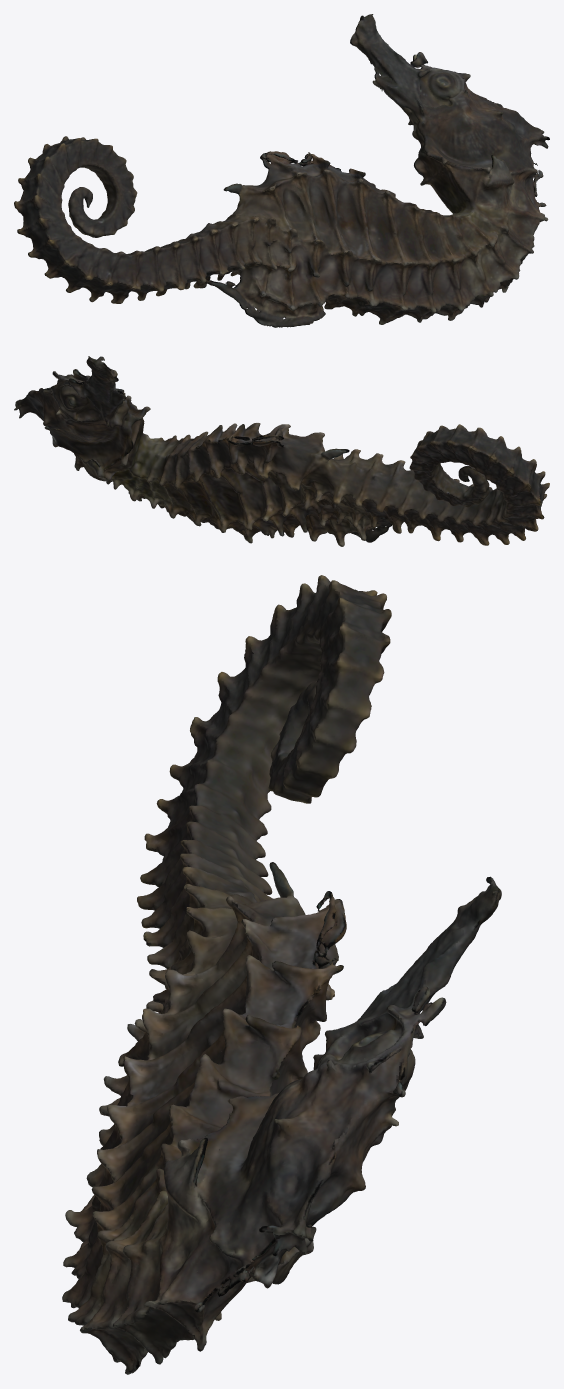
File: caballito.glb
3 views of the same model, one above another, from view 1: azimuth 30°, elevation 25°; view 2: azimuth 150°, elevation 25°; view 3: azimuth 270°, elevation 25° (orthographic). The views are drawn at different scales.
Visible parts, largest first — view 1: Object_4, Object_2, Object_3, Object_5; view 2: Object_3, Object_2, Object_4, Object_5; view 3: Object_2, Object_4, Object_3, Object_5.
Boxes of the visible parts, left/top/right/bottom form: Object_4: left=14, top=89, right=520, bottom=307; Object_2: left=17, top=14, right=549, bottom=327; Object_3: left=23, top=63, right=535, bottom=325; Object_5: left=49, top=157, right=548, bottom=304; Object_3: left=19, top=383, right=536, bottom=540; Object_2: left=14, top=356, right=549, bottom=544; Object_4: left=19, top=395, right=547, bottom=546; Object_5: left=133, top=404, right=546, bottom=545; Object_2: left=113, top=575, right=501, bottom=1370; Object_4: left=63, top=575, right=391, bottom=1372; Object_3: left=62, top=606, right=421, bottom=1374; Object_5: left=99, top=695, right=303, bottom=1332.
Size of the model in its own units: 90.33 by 38.75 by 32.75.
Materials: 1 (1 with a texture image).
